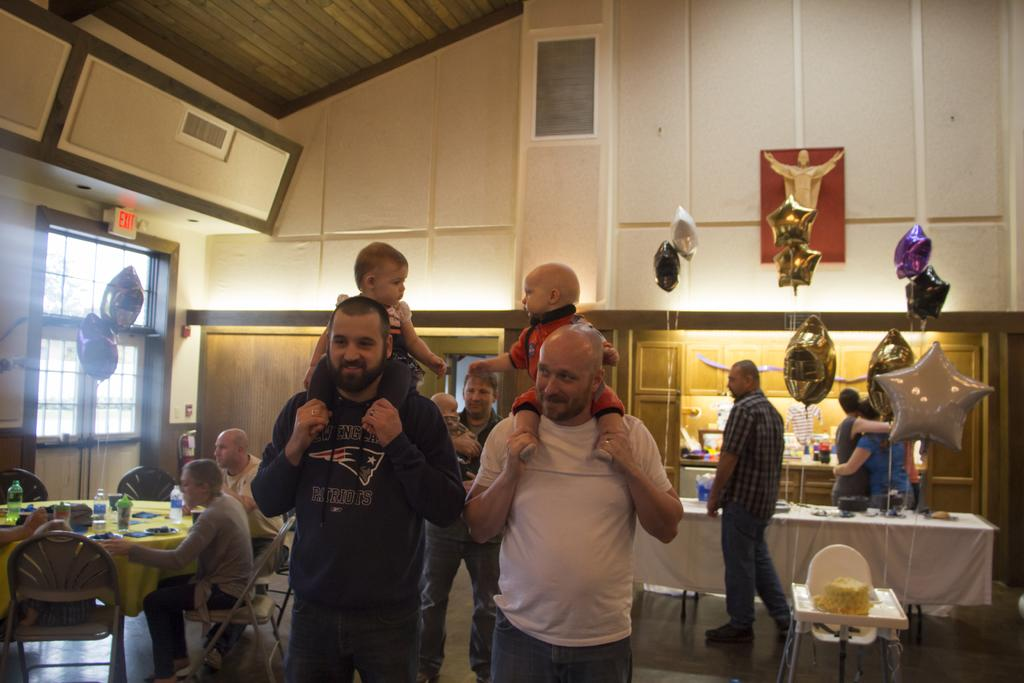Sem Máscara: (329, 304, 383, 386), (537, 343, 576, 416), (375, 255, 405, 306), (519, 267, 542, 311), (465, 376, 491, 409), (214, 429, 231, 465), (723, 360, 740, 395), (176, 470, 195, 501)
